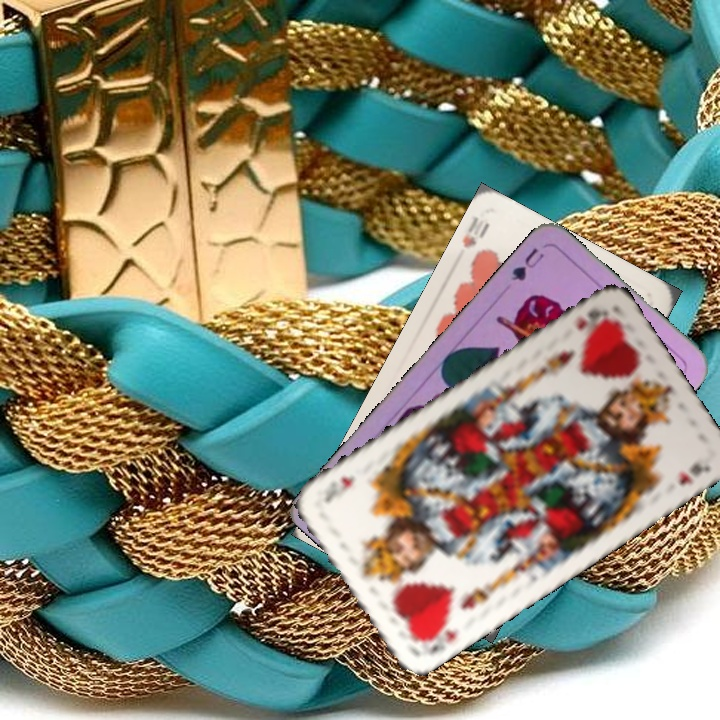GU: (507, 243, 547, 284)
H10: (458, 212, 492, 251)
HK: (412, 616, 461, 659), (572, 304, 607, 333)
